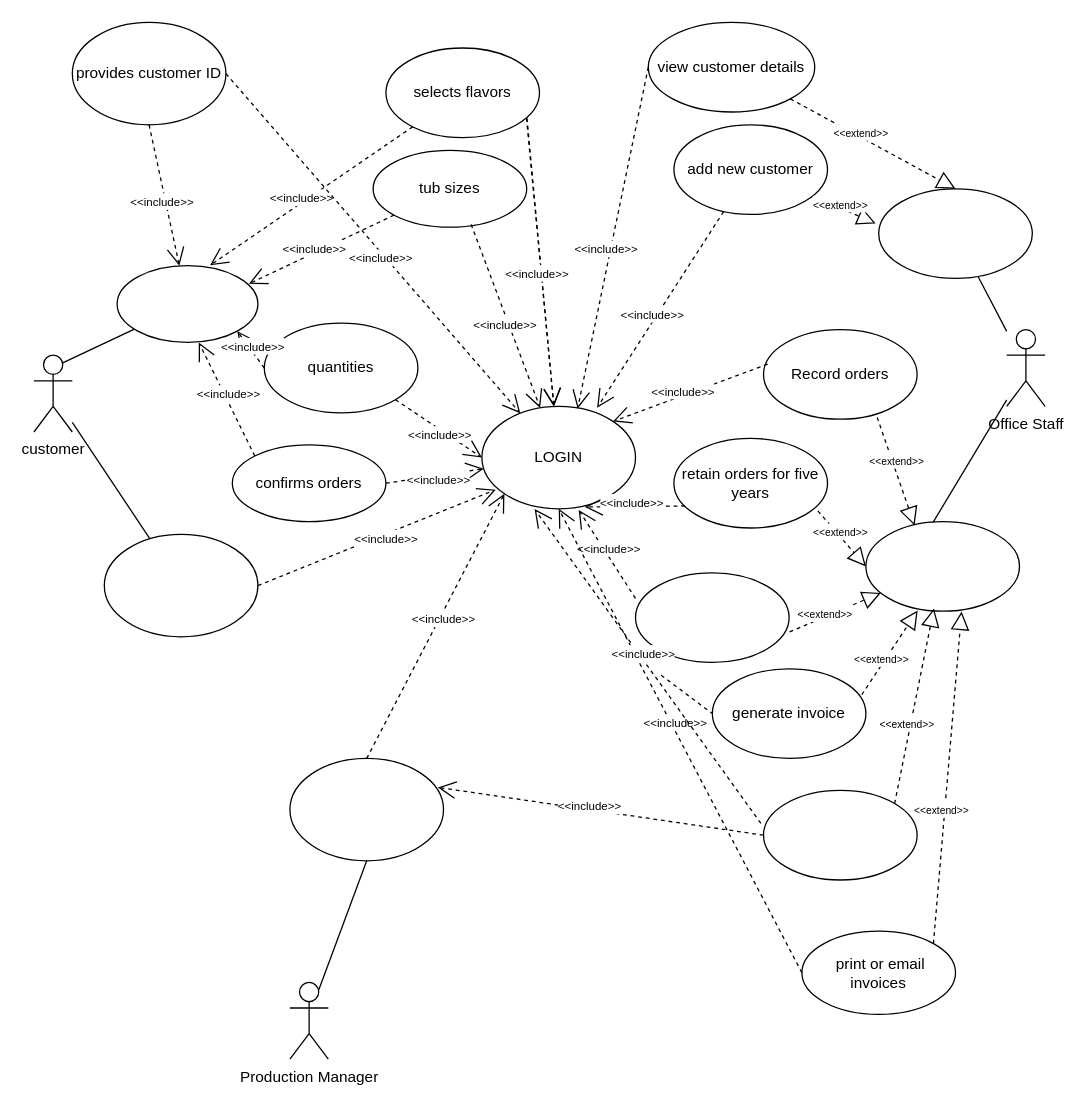
This 1085x1108 diagram has some shape labels left out. Each missing label, with the centre of its shape:
Customer Management: the point at 954,233
evise order details: the point at 711,617
order: the point at 187,303
Order Management: the point at 942,565
Production Management: the point at 366,809
View customer orders: the point at 839,834
view order status: the point at 180,585
